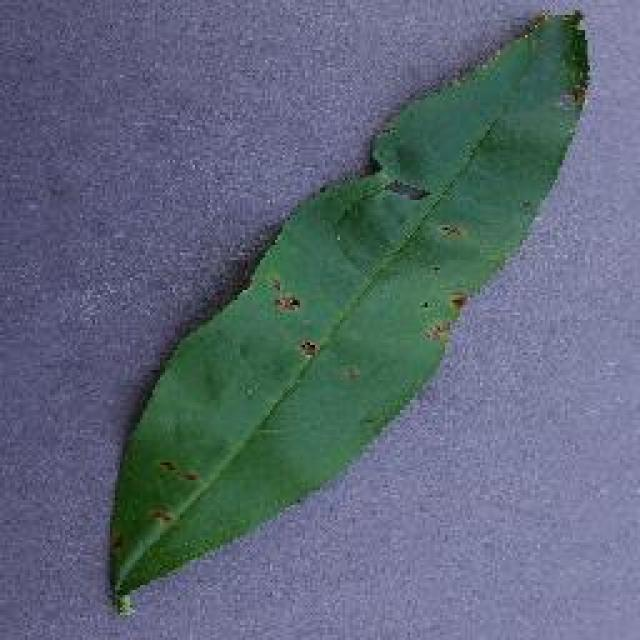Peach_Bacterial_Spot: (253, 183, 550, 417)
